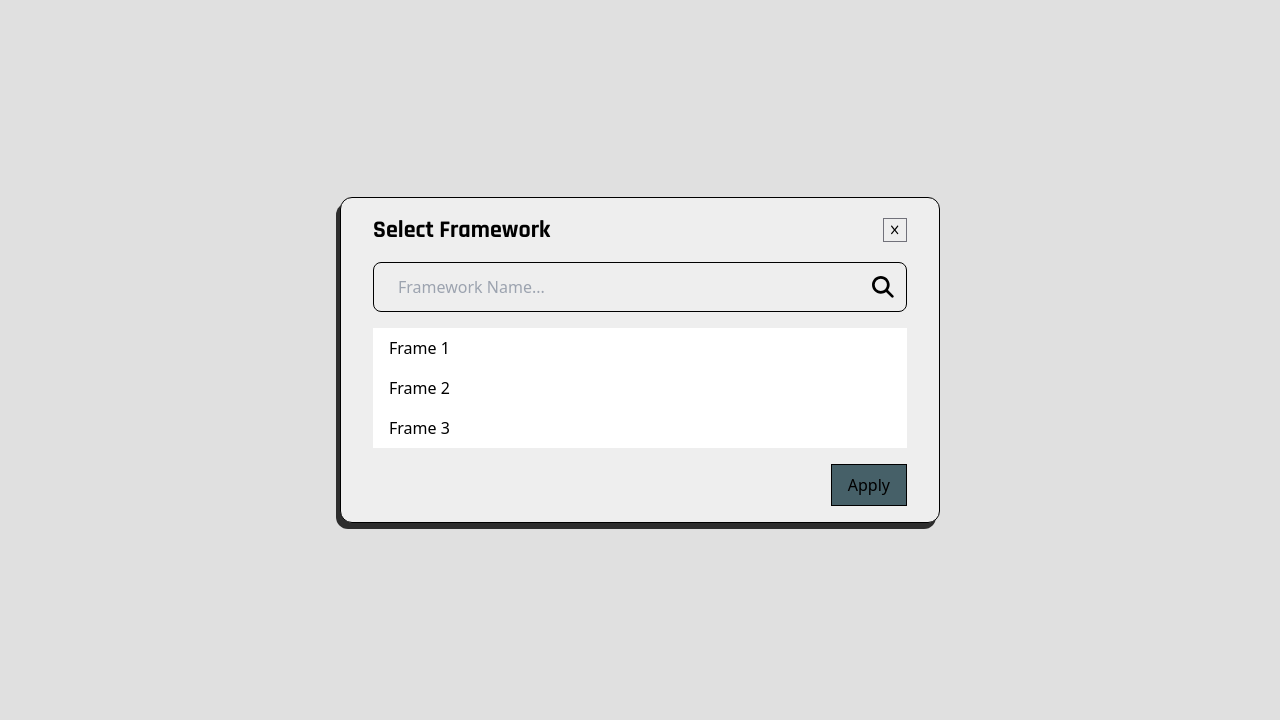
Scenario: SelectFrameworkModal › apply button is enabled after selecting framework
The image size is (1280, 720).
Check: the button "Apply" is disabled, box 831,464 -> 907,506
Step 1. Click the button with test id "framework-item" showing "Frame 1" → {"x": 419, "y": 348}, box 373,328 -> 907,368
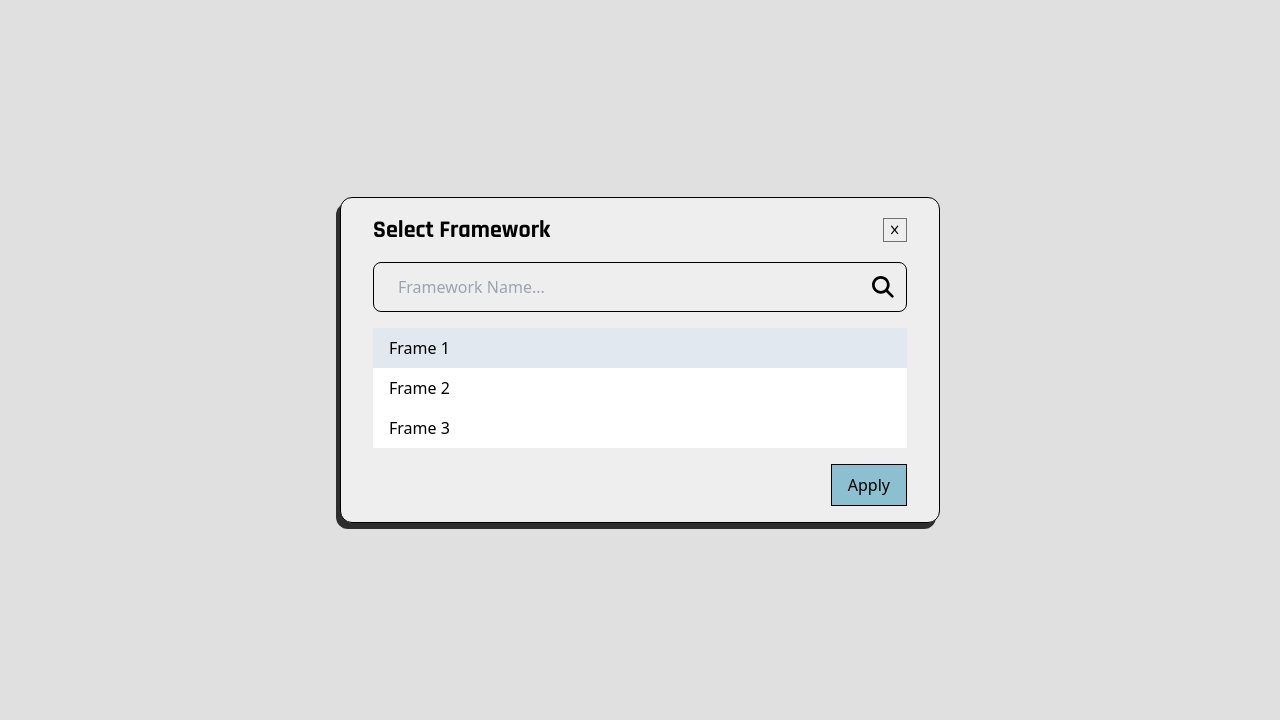
Check: the button "Apply" is enabled, box 831,464 -> 907,506
